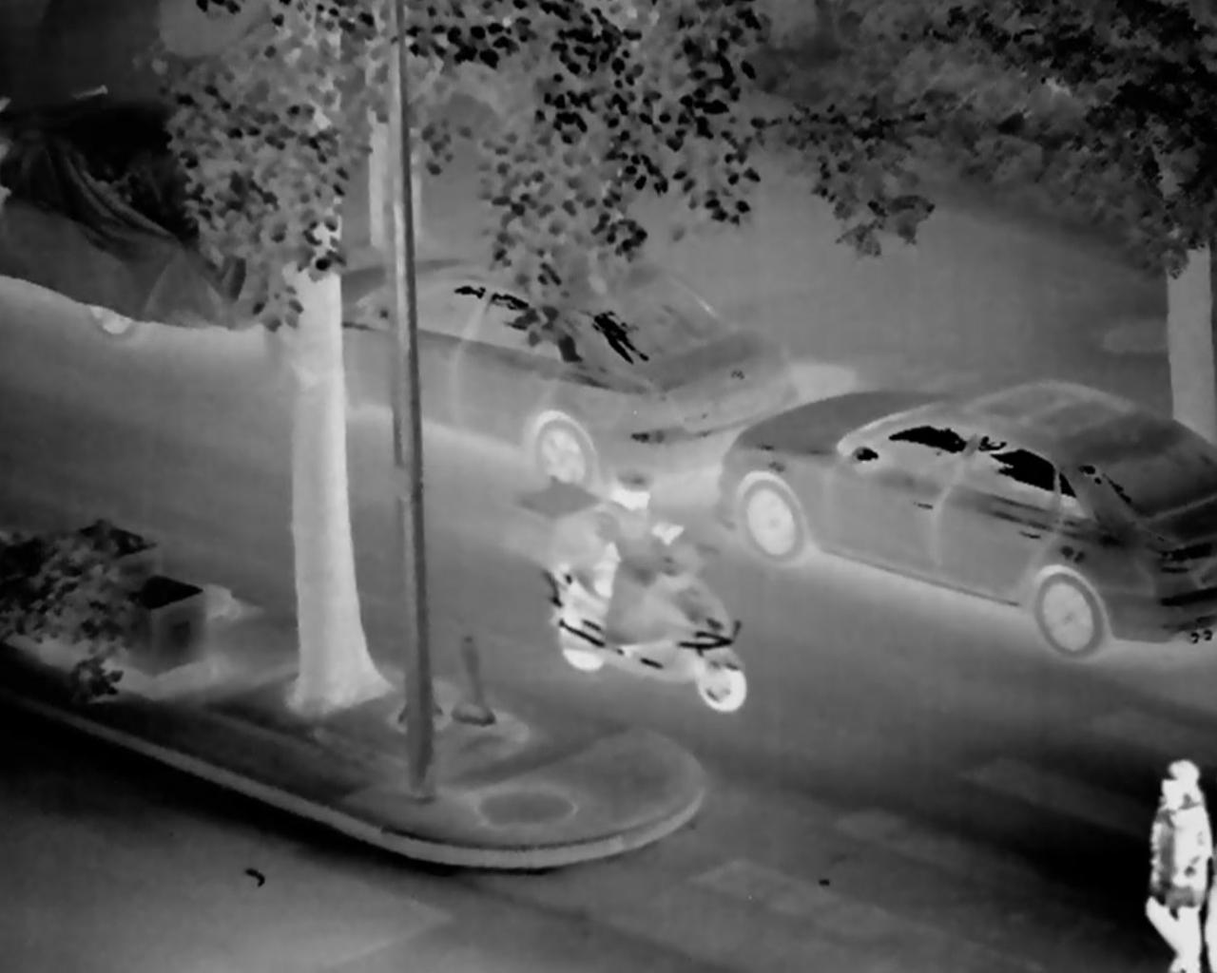person: (578, 463, 699, 663), (1130, 760, 1217, 973)
